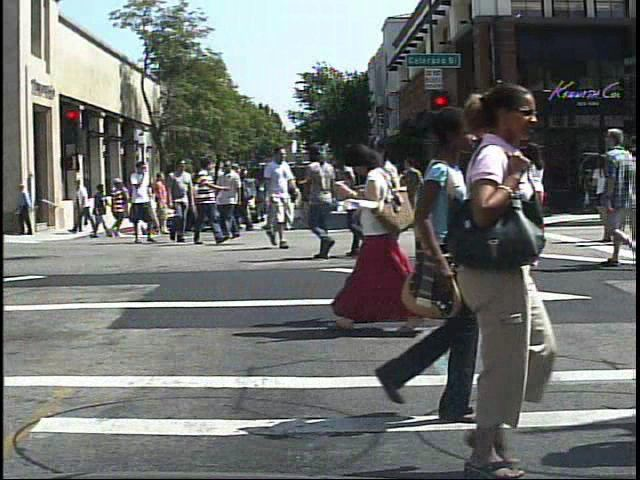person: (419, 81, 573, 480), (330, 137, 439, 342), (371, 128, 420, 334), (463, 134, 512, 262), (598, 116, 638, 270), (297, 133, 344, 262), (339, 147, 386, 262), (257, 142, 299, 252), (186, 153, 224, 247), (125, 156, 162, 246), (164, 157, 199, 248), (590, 150, 610, 242), (529, 139, 543, 253), (105, 176, 129, 241), (76, 182, 96, 231)
